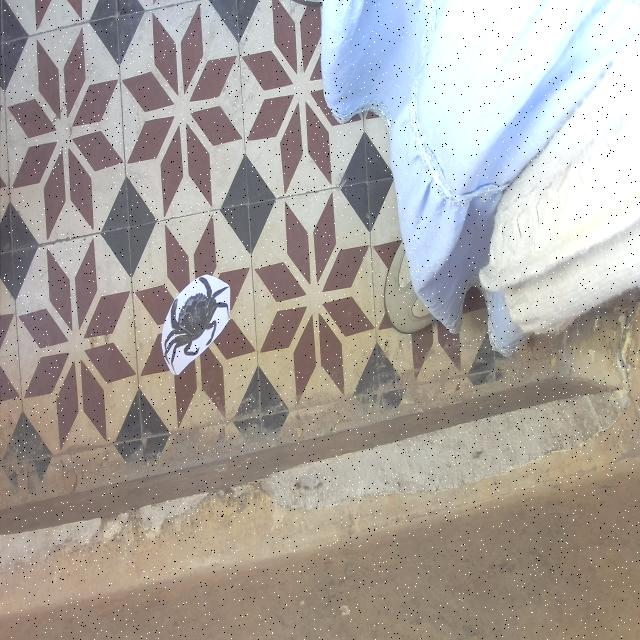European_Green_Crab: (154, 258, 238, 379)
